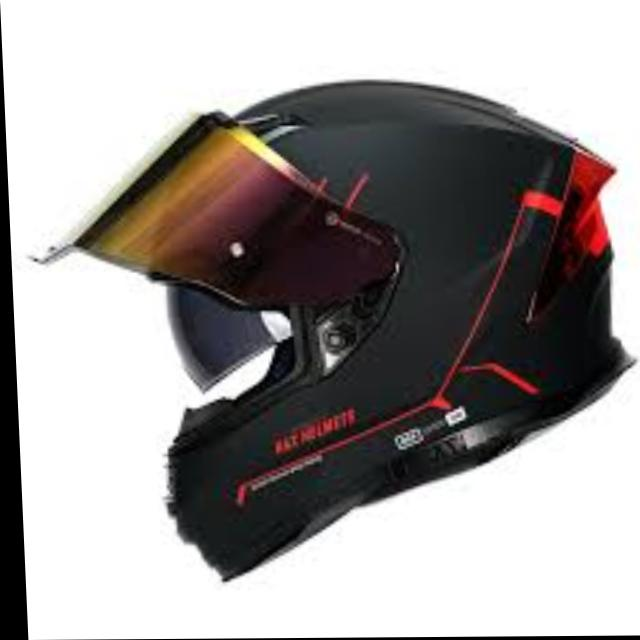motorcycle-helmets: (34, 80, 628, 579)
